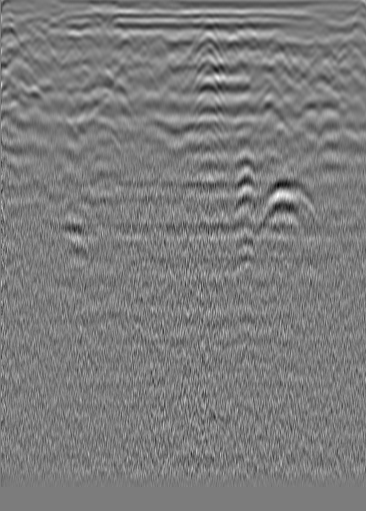가스: (53, 217, 95, 251)
상수: (306, 32, 326, 52)
오수: (30, 27, 50, 47)
우수: (200, 26, 220, 46)
